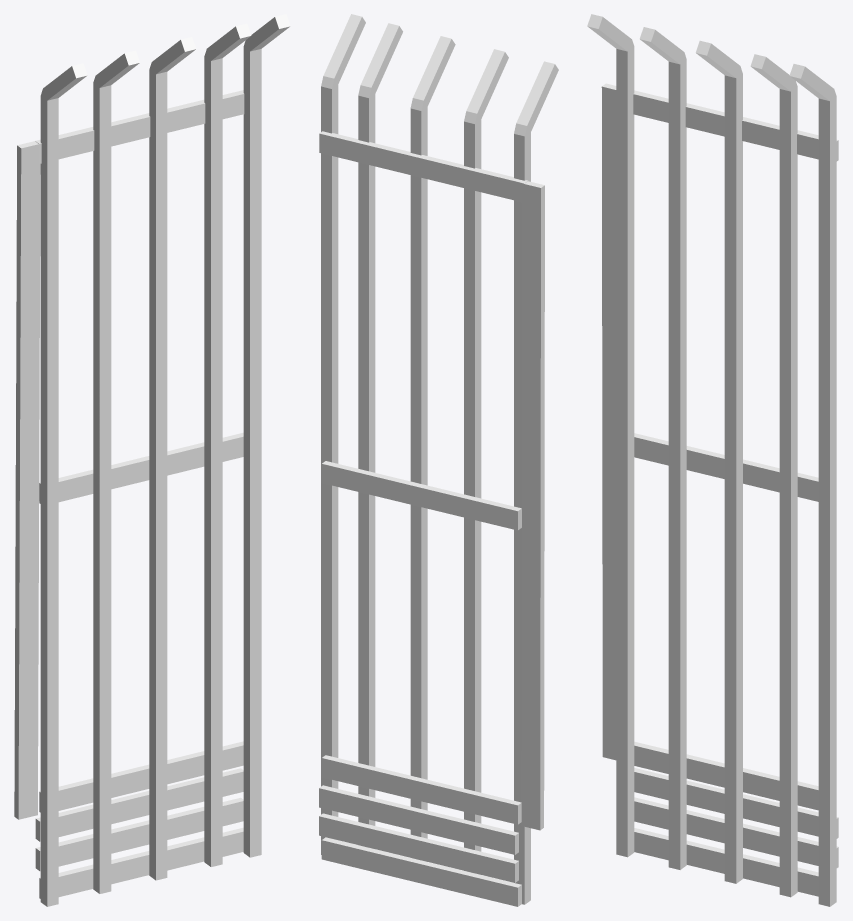
The model's file is Reja_entrada.obj.
3 views of the same model, side by side, from view 1: azimuth 30°, elevation 25°; view 2: azimuth 150°, elevation 25°; view 3: azimuth 330°, elevation 25° (orthographic). The views are drawn at different scales.
Visible parts, largest first — view 1: pasted__REJA_ENTRADA1; view 2: pasted__REJA_ENTRADA1; view 3: pasted__REJA_ENTRADA1.
Part boxes in pixels (box(x1,y1,x2,y2)): pasted__REJA_ENTRADA1: box(14, 14, 290, 906); pasted__REJA_ENTRADA1: box(319, 14, 558, 906); pasted__REJA_ENTRADA1: box(587, 14, 838, 906).
Bounding box in the file's own units: 1 × 3.5 × 0.3239.
1 material, 1 textured.
